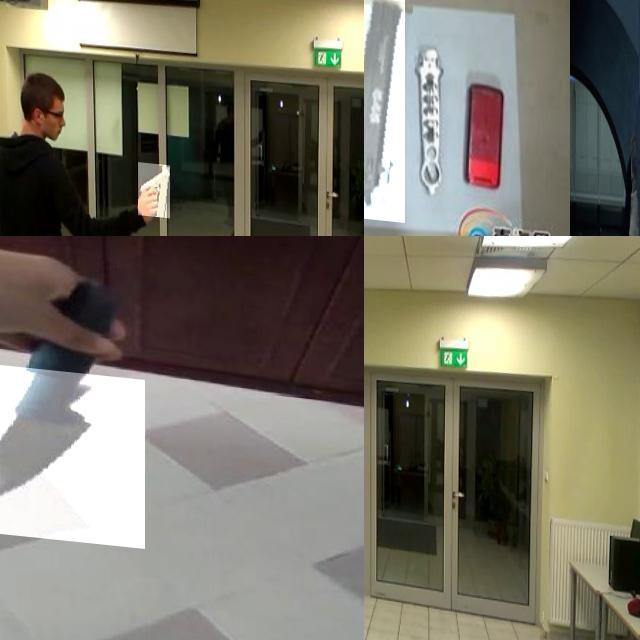-: (0, 355, 145, 541)
gun-knife-thesis - v11 Yolov5 augmented: (364, 0, 427, 219), (138, 156, 170, 212), (364, 477, 382, 515)
